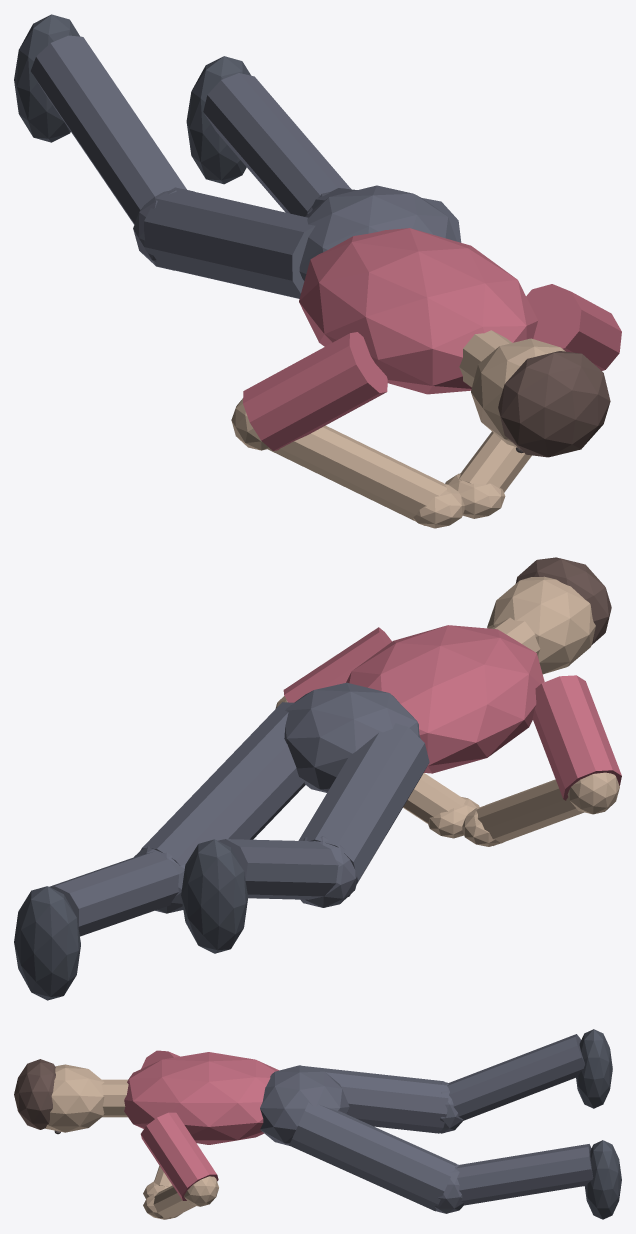
3 views of the same model, one above another, from view 1: azimuth 30°, elevation 25°; view 2: azimuth 150°, elevation 25°; view 3: azimuth 270°, elevation 25° (orthographic). The views are drawn at different scales.
Visible parts, largest first — view 1: world; view 2: world; view 3: world.
Part boxes in pixels (x1=…): world: x1=14, y1=14, x2=621, y2=528; world: x1=14, y1=557, x2=621, y2=1000; world: x1=14, y1=1029, x2=621, y2=1219.
Size of the model in its own units: 0.93 by 0.6213 by 2.07.
